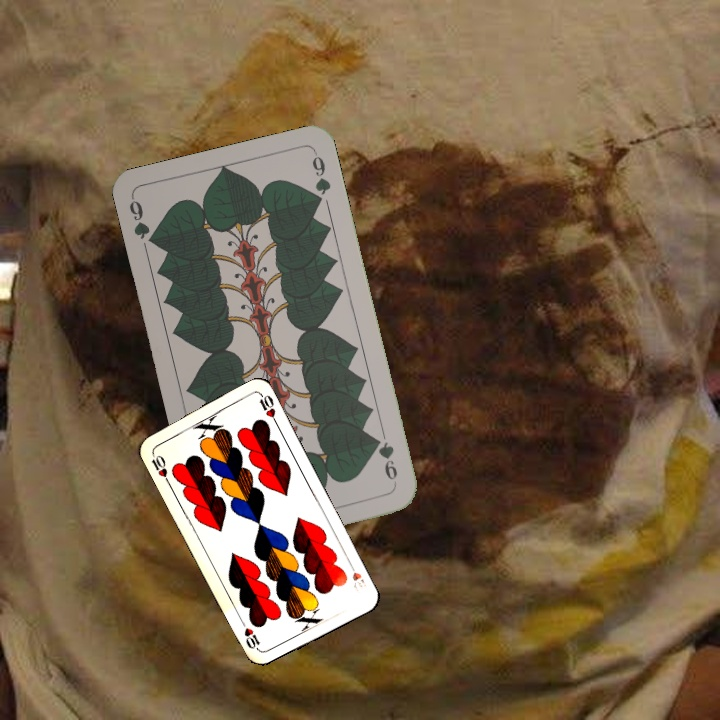G9: (125, 194, 160, 249), (370, 433, 400, 489)
H10: (147, 448, 172, 486), (344, 558, 368, 594)
